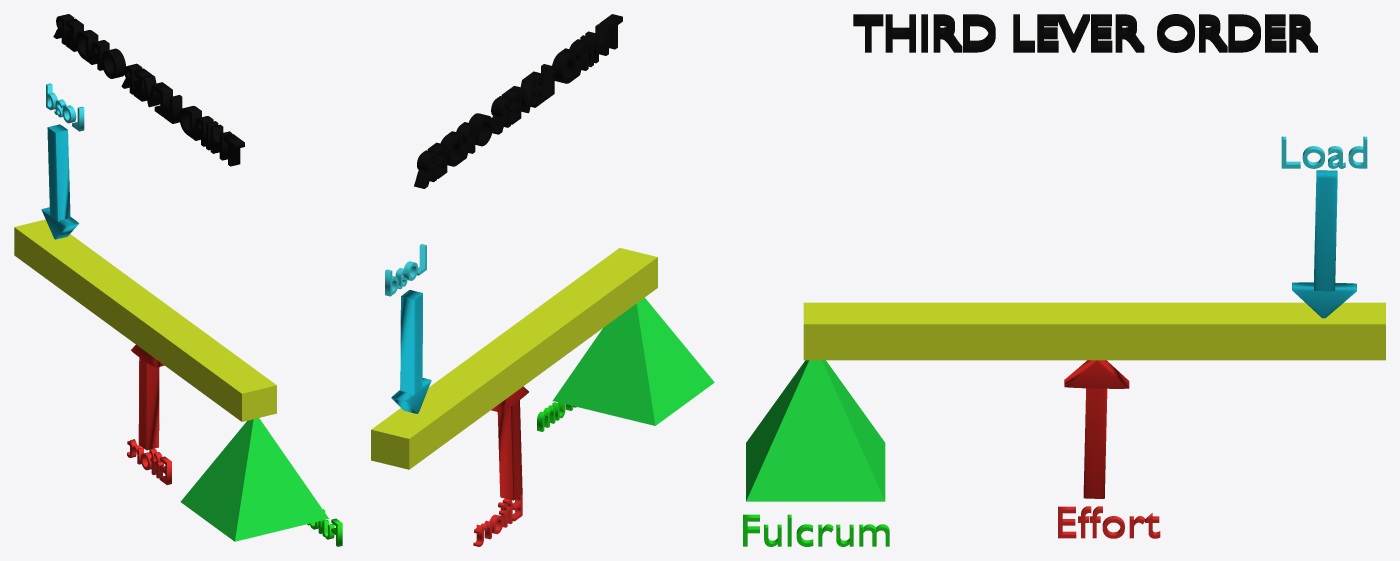
The model's file is Third Lever Order.gltf.
The picture shows the model from 3 angles, left to right: view 1: azimuth 30°, elevation 25°; view 2: azimuth 150°, elevation 25°; view 3: azimuth 270°, elevation 25°; orthographic projection. The views are drawn at different scales.
Visible parts, largest first — view 1: Cube.001, Cube.002, Text.003, Cylinder.001, Cylinder.008, Text, Text.001, Text.002; view 2: Cube.001, Cube.002, Text.003, Cylinder.001, Cylinder.008, Text, Text.001, Text.002; view 3: Cube.001, Cube.002, Text.003, Cylinder.001, Cylinder.008, Text.002, Text, Text.001.
Part boxes in pixels (x1=…): Cube.001: x1=14, y1=219, x2=276, y2=421; Cube.002: x1=180, y1=418, x2=328, y2=541; Text.003: x1=53, y1=14, x2=244, y2=166; Cylinder.001: x1=41, y1=124, x2=78, y2=239; Cylinder.008: x1=131, y1=345, x2=164, y2=450; Text: x1=127, y1=439, x2=171, y2=484; Text.001: x1=46, y1=83, x2=84, y2=131; Text.002: x1=307, y1=509, x2=342, y2=546; Cube.001: x1=371, y1=248, x2=657, y2=469; Cube.002: x1=552, y1=297, x2=714, y2=425; Text.003: x1=414, y1=14, x2=622, y2=188; Cylinder.001: x1=391, y1=290, x2=431, y2=413; Cylinder.008: x1=491, y1=386, x2=528, y2=500; Text: x1=473, y1=494, x2=522, y2=546; Text.001: x1=385, y1=244, x2=426, y2=296; Text.002: x1=537, y1=402, x2=576, y2=431; Cube.001: x1=803, y1=302, x2=1385, y2=360; Cube.002: x1=746, y1=360, x2=885, y2=501; Text.003: x1=853, y1=14, x2=1317, y2=52; Cylinder.001: x1=1292, y1=170, x2=1356, y2=318; Cylinder.008: x1=1064, y1=360, x2=1129, y2=498; Text.002: x1=743, y1=514, x2=889, y2=546; Text: x1=1058, y1=506, x2=1160, y2=538; Text.001: x1=1281, y1=136, x2=1367, y2=168.
Bounding box in the file's own units: 0.5588 × 2.01 × 2.28.
